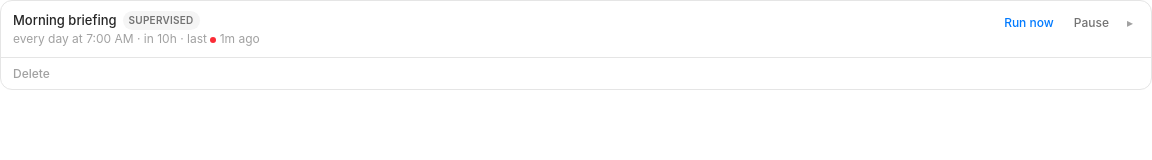
Scenario: RoutinesPanel (routines spec, 'Routine management') › shows run history behind a toggle, newest first
Click the button named "Run history for Morning briefing".
click(1130, 23)  # box 1121,11 -> 1139,35
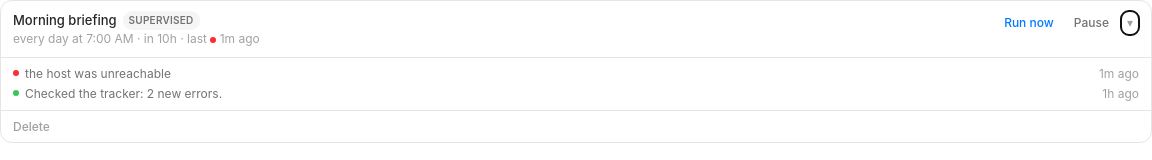
Check: the list item "Checked the tracker: 2 new errors. 1h ago" does not show "second line", box 13,86 -> 1139,102
Check: the list item "the host was unreachable 1m ago" is shown, box 13,66 -> 1139,82
Check: the list item "Checked the tracker: 2 new errors. 1h ago" is shown, box 13,86 -> 1139,102
